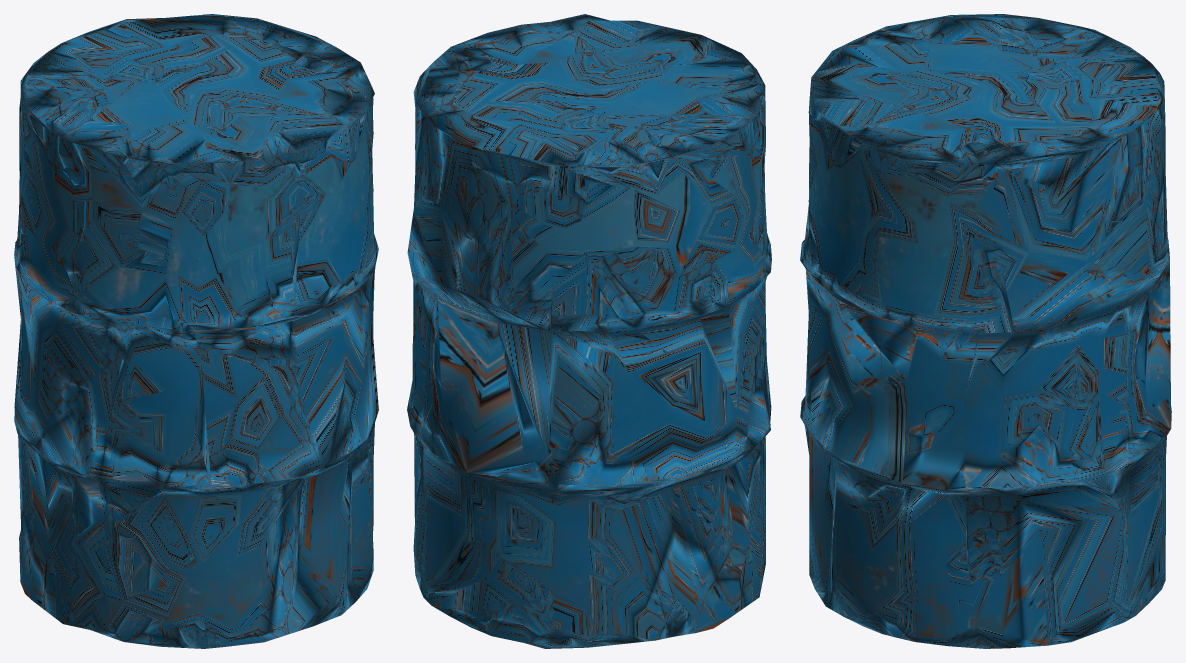
Rendered from aggressive.glb.
The picture shows the model from 3 angles, left to right: view 1: azimuth 30°, elevation 25°; view 2: azimuth 150°, elevation 25°; view 3: azimuth 270°, elevation 25°; orthographic projection.
Visible parts, largest first — view 1: world; view 2: world; view 3: world.
Part boxes in pixels (x1,y1,x2,y2): world: (14, 14, 378, 648); world: (407, 14, 771, 648); world: (800, 14, 1171, 648).
Bounding box in the file's own units: 0.6781 × 0.99 × 0.6779.
1 material, 1 textured.
